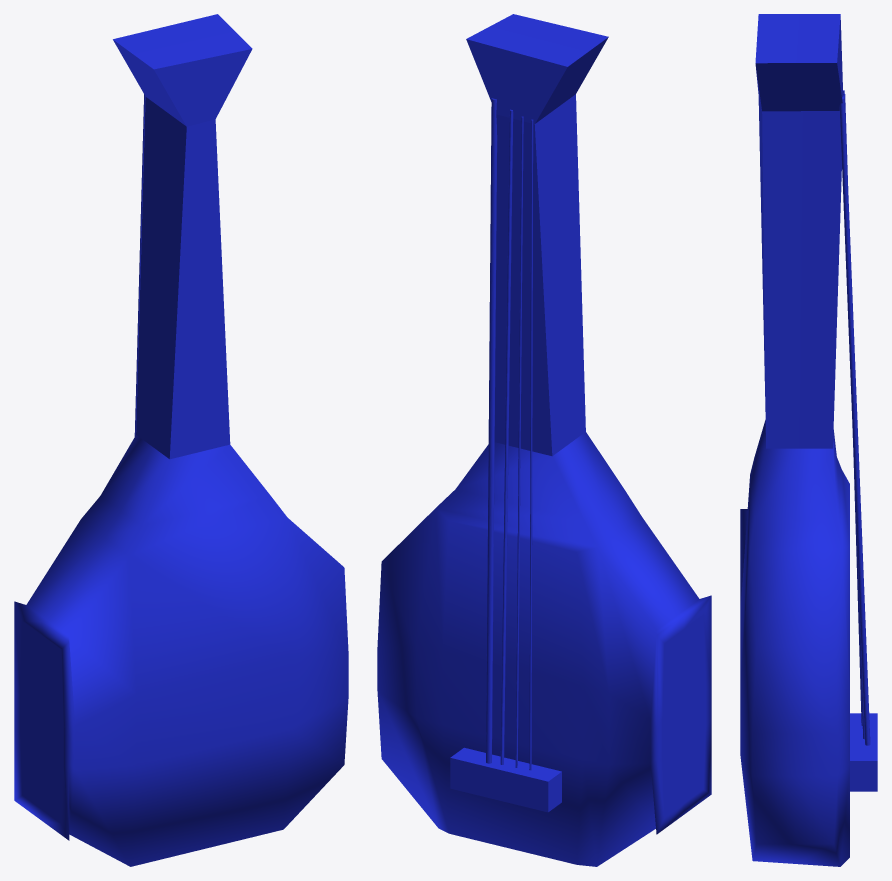
The model's file is guitar.fbx.
3 views of the same model, side by side, from view 1: azimuth 30°, elevation 25°; view 2: azimuth 150°, elevation 25°; view 3: azimuth 270°, elevation 25° (orthographic).
Parts seen in each view (by area): view 1: Guitar; view 2: Guitar; view 3: Guitar.
Boxes of the visible parts, x1=… form: Guitar: x1=14, y1=14, x2=348, y2=866; Guitar: x1=377, y1=14, x2=711, y2=866; Guitar: x1=740, y1=14, x2=877, y2=866.
Size of the model in its own units: 316 by 841 by 132.
